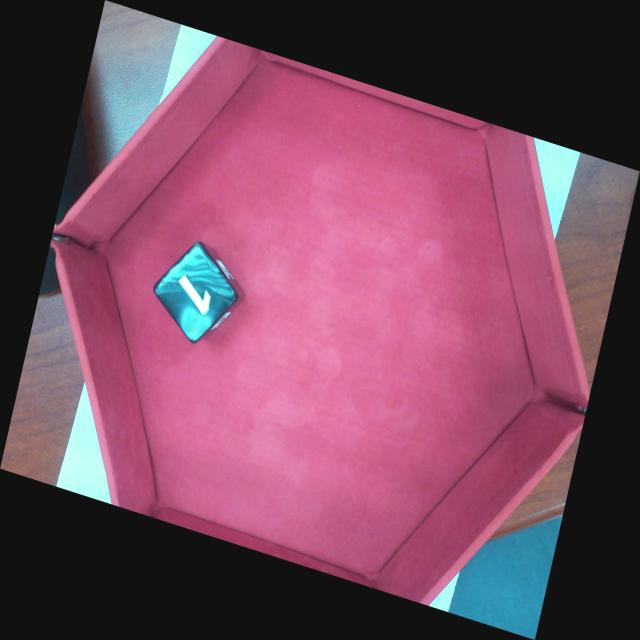dice: (153, 242, 238, 344)
